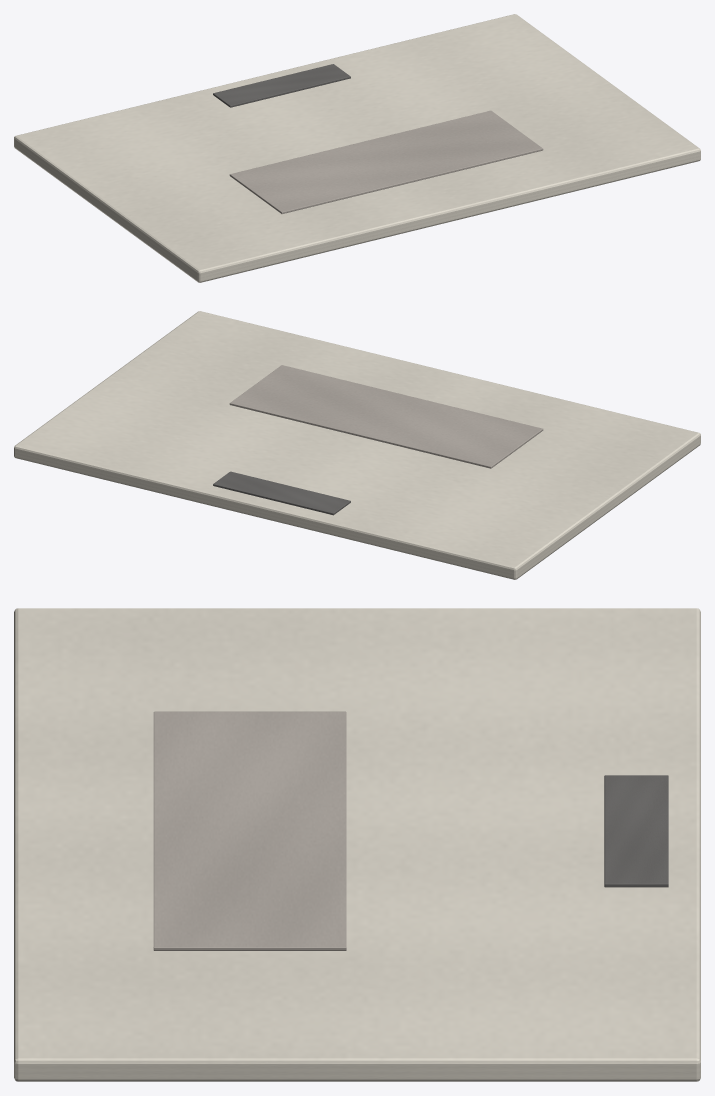
The model's file is confidential_envelope.glb.
3 renders of one model, top to bottom at view 1: azimuth 30°, elevation 25°; view 2: azimuth 150°, elevation 25°; view 3: azimuth 270°, elevation 25°, orthographic. The views are drawn at different scales.
Visible parts, largest first — view 1: envelope, label_area.003, closure; view 2: envelope, label_area.003, closure; view 3: envelope, label_area.003, closure.
Part boxes in pixels (<box>): envelope: <box>14,14,700,282</box>; label_area.003: <box>229,110,543,213</box>; closure: <box>213,64,350,107</box>; envelope: <box>14,311,700,579</box>; label_area.003: <box>229,365,543,468</box>; closure: <box>213,471,350,515</box>; envelope: <box>14,608,700,1081</box>; label_area.003: <box>153,711,346,950</box>; closure: <box>604,775,668,887</box>.
Bounding box in the file's own units: 0.25 × 0.007 × 0.16.
3 materials, 3 textured.
